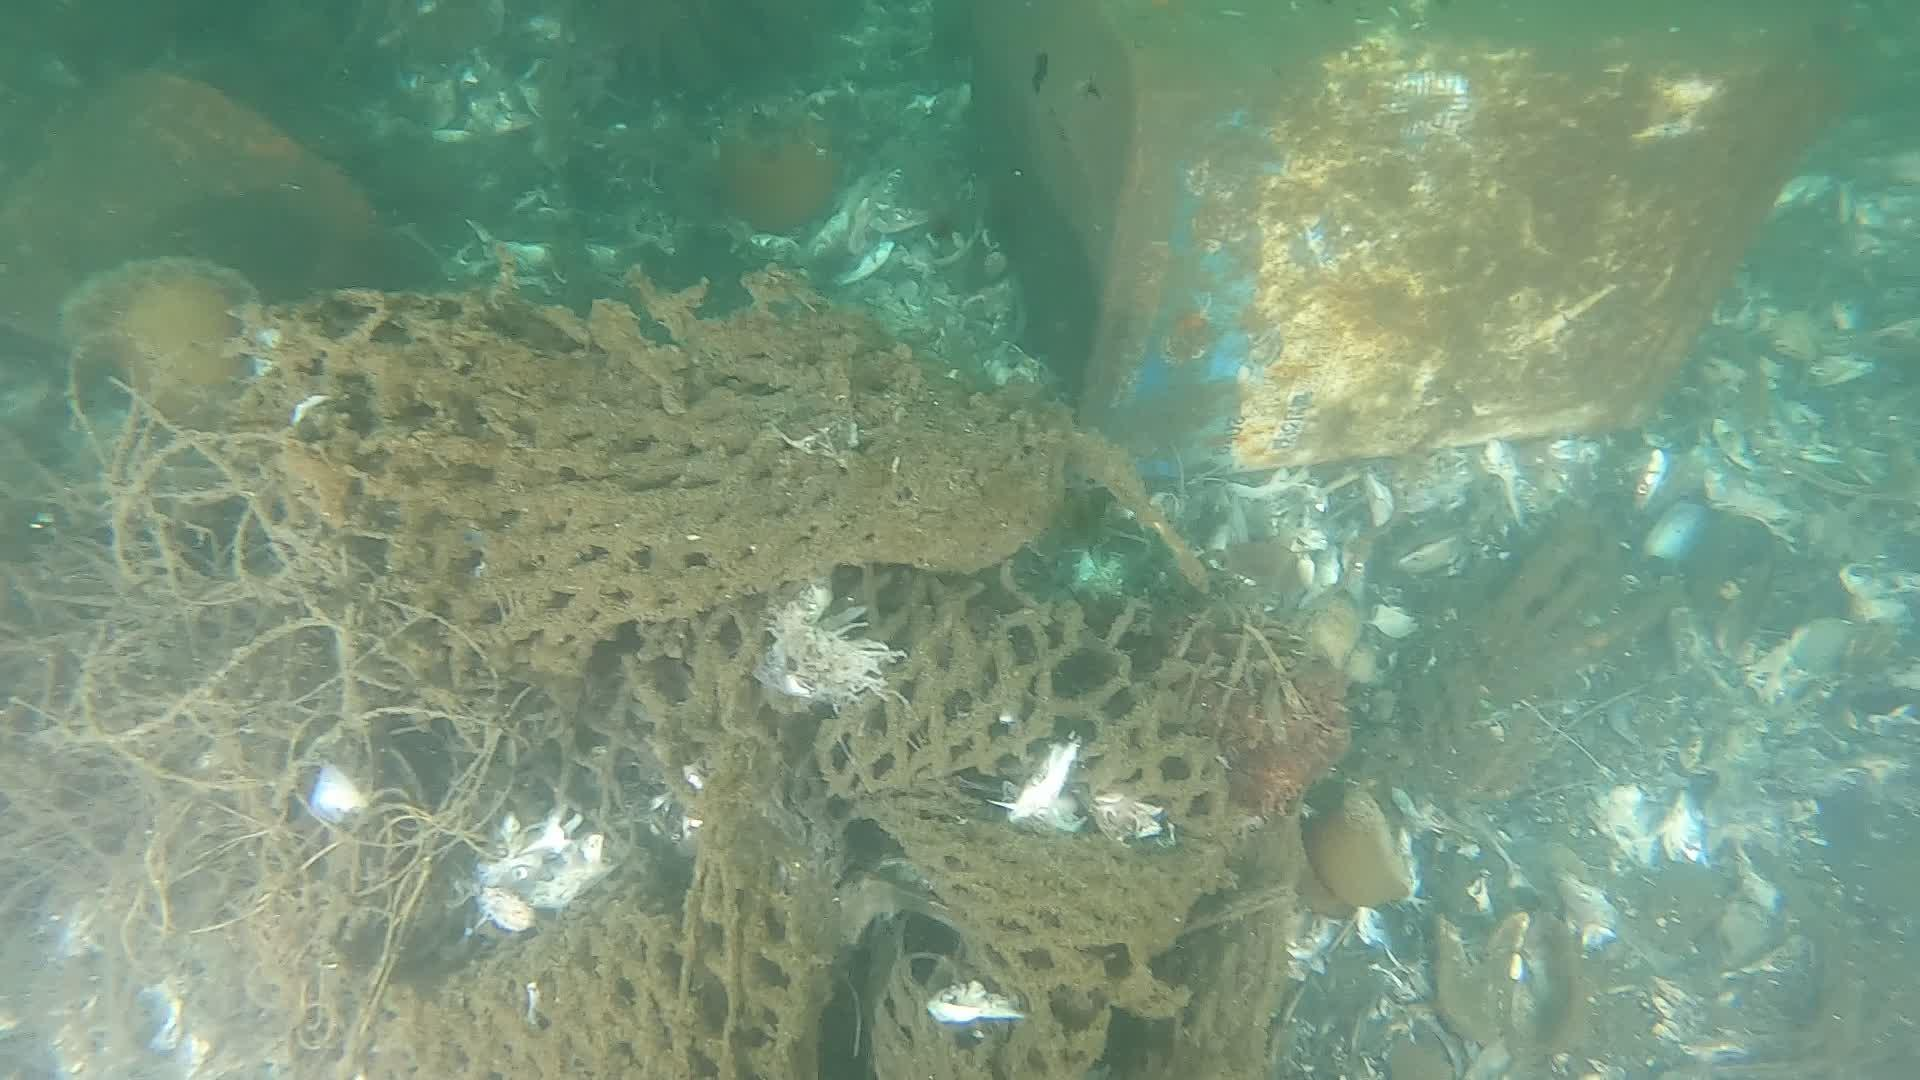fish net: (280, 286, 1308, 1080)
